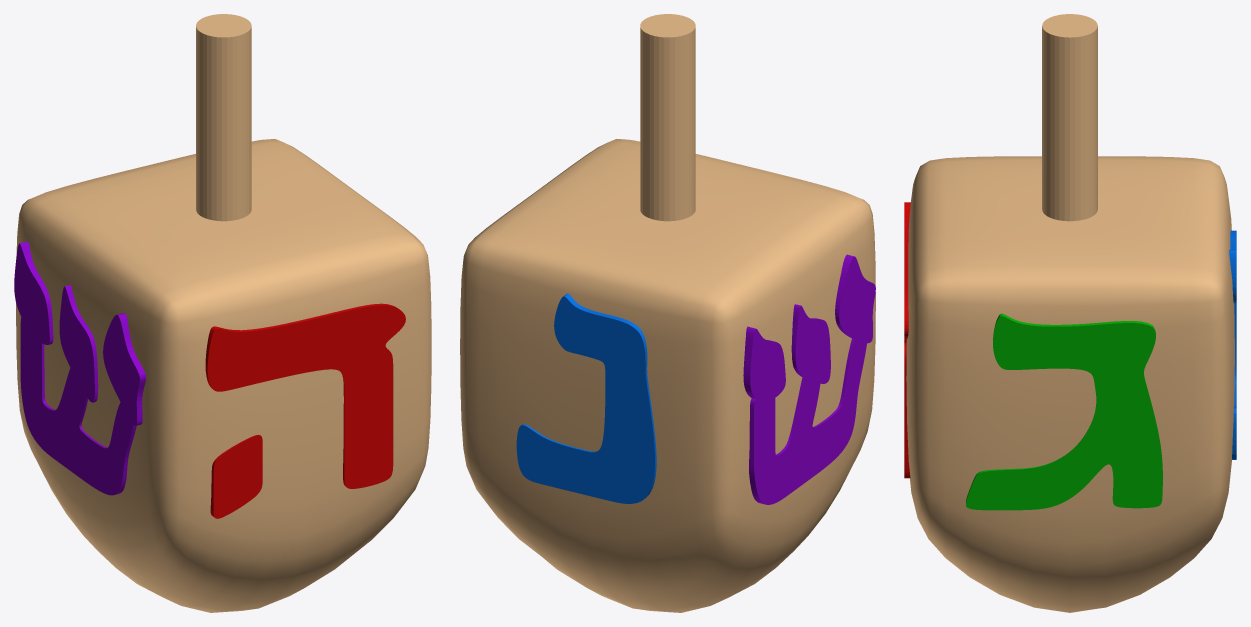
File: sevivon.glb
The picture shows the model from 3 angles, left to right: view 1: azimuth 30°, elevation 25°; view 2: azimuth 150°, elevation 25°; view 3: azimuth 270°, elevation 25°; orthographic projection.
Visible parts, largest first — view 1: Sevivon, Hey, Shin, Stem; view 2: Sevivon, Shin, Nun, Stem; view 3: Sevivon, Gimmel, Stem, Hey, Nun.
Boxes of the visible parts, bbox=[...] form: Sevivon: bbox=[16, 139, 431, 612]; Hey: bbox=[205, 303, 405, 518]; Shin: bbox=[14, 241, 145, 495]; Stem: bbox=[196, 14, 251, 221]; Sevivon: bbox=[460, 139, 875, 612]; Shin: bbox=[743, 254, 875, 504]; Nun: bbox=[516, 293, 656, 503]; Stem: bbox=[640, 14, 695, 221]; Sevivon: bbox=[906, 156, 1234, 612]; Gimmel: bbox=[966, 313, 1162, 510]; Stem: bbox=[1042, 14, 1097, 221]; Hey: bbox=[904, 202, 910, 478]; Nun: bbox=[1229, 230, 1236, 459].
Bounding box in the file's own units: 1.01 × 1.92 × 1.
